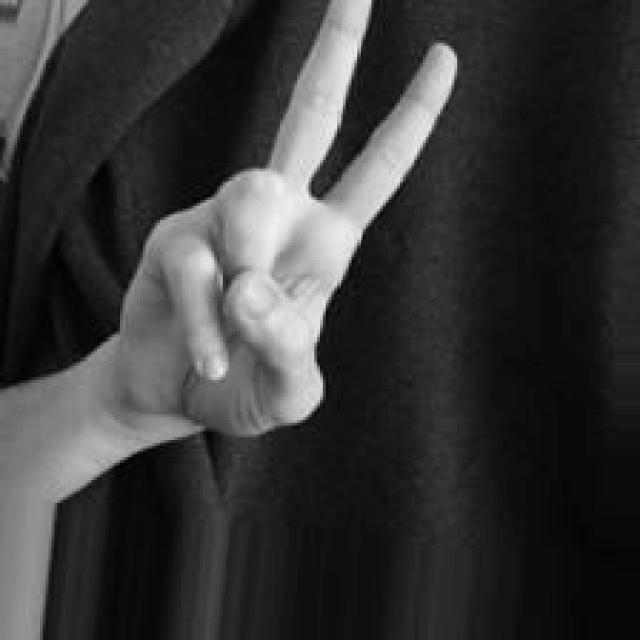V: (119, 0, 459, 451)
